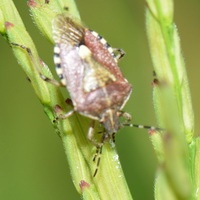insect: (75, 0, 156, 125), (13, 0, 57, 79), (116, 128, 156, 177)
